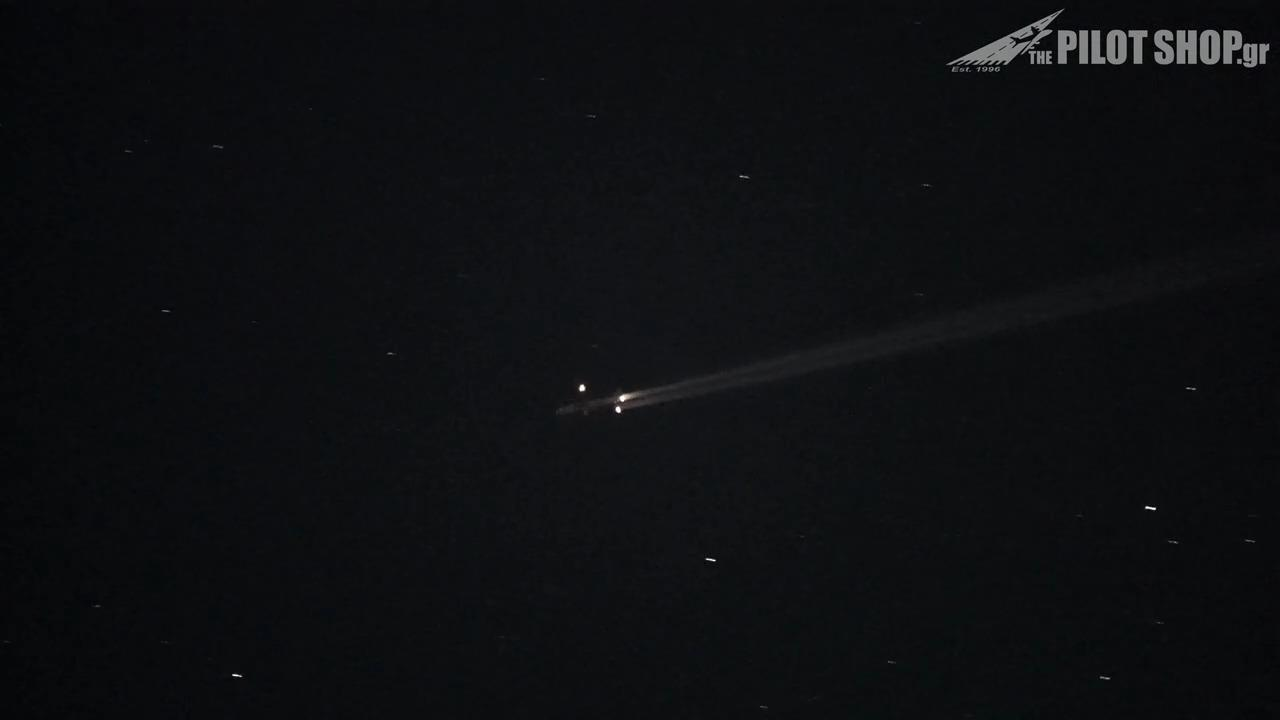Plane: (528, 381, 671, 445)
